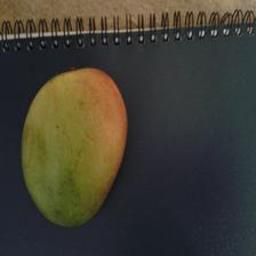Mango Semifresh: (21, 63, 128, 234)
